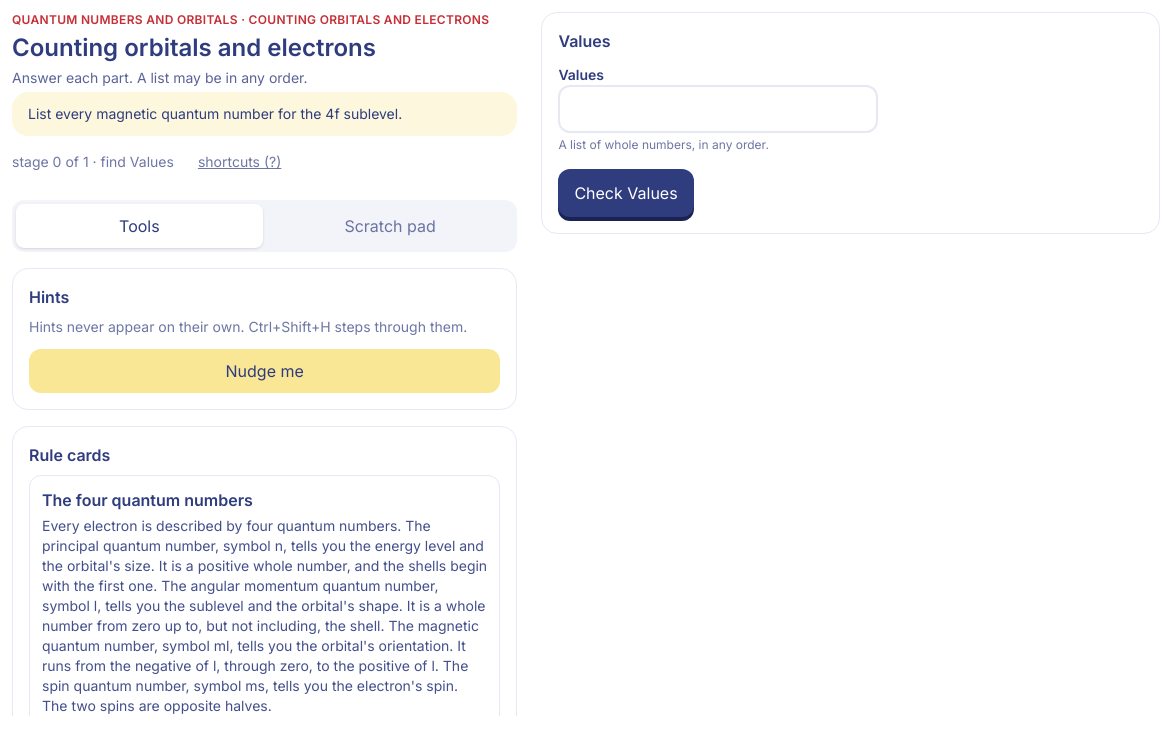
Scenario: Quantum numbers qn.count › an unreadable answer records nothing
Click the button "Check Values" at (626, 193), box [558,169,694,217]
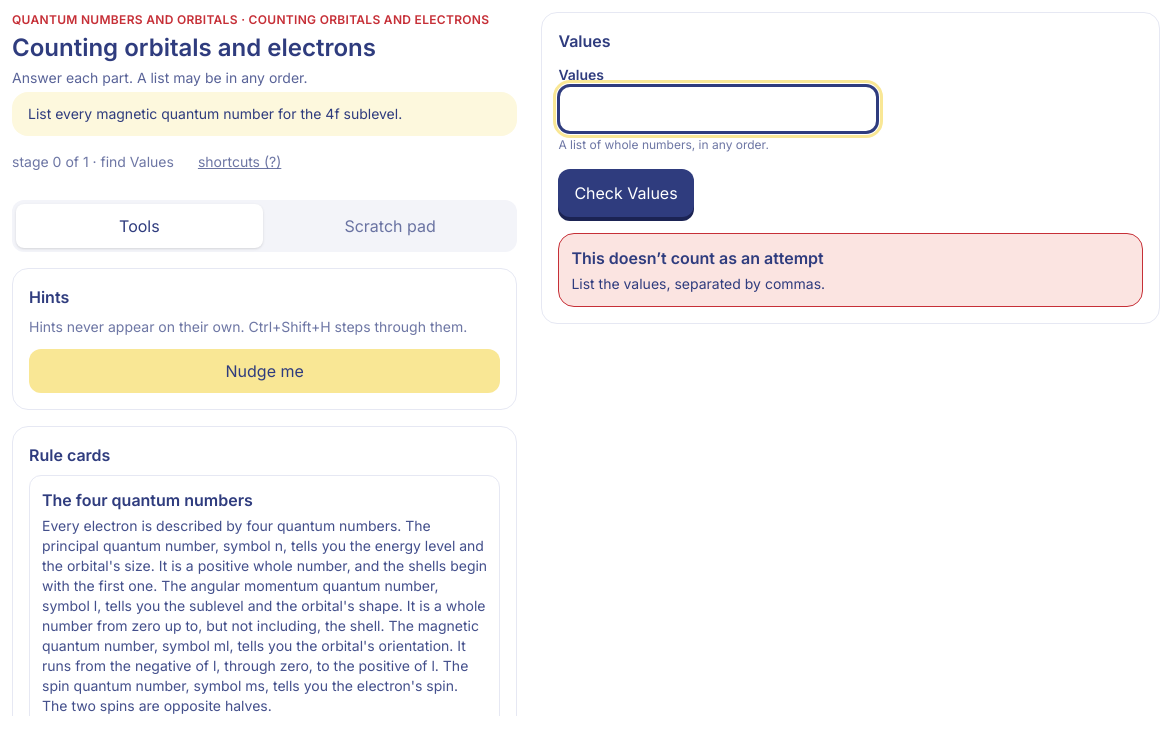
Now the message shows "This doesn’t count as an attempt", box [571,248,824,268]
Type "???" into the field labelled "Values" at (718, 109), box [558,85,878,133]
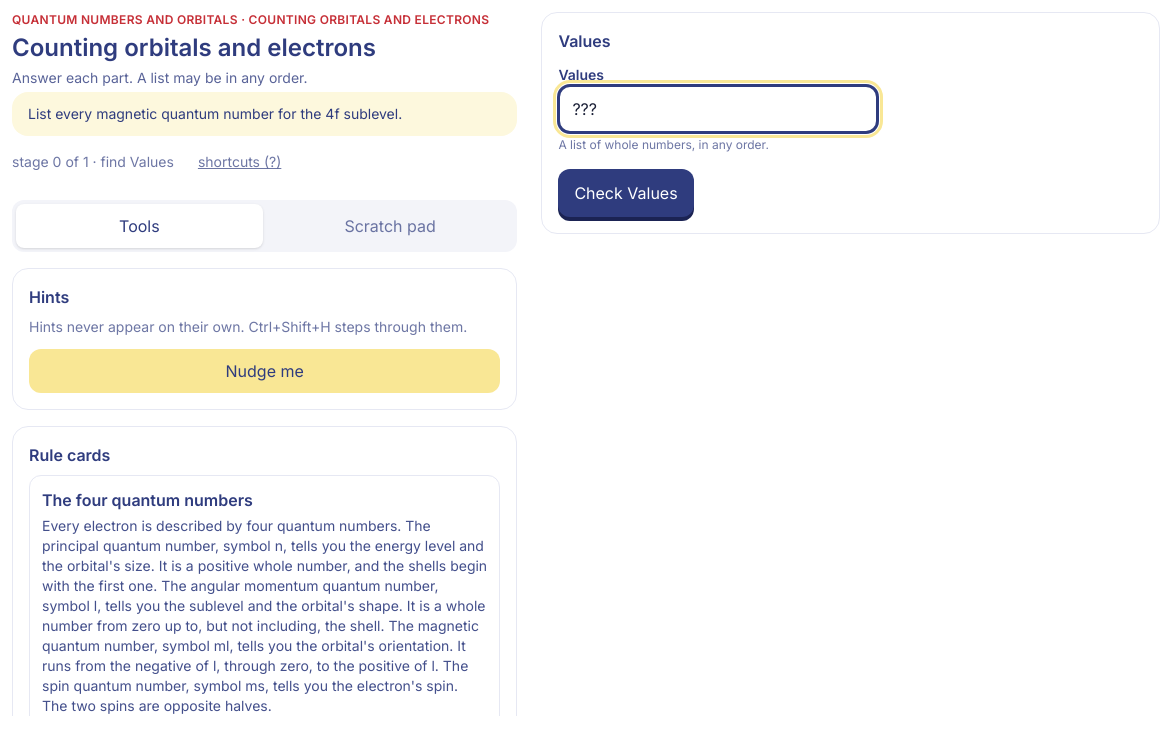
Now the message "This doesn’t count as an attempt List the values, separated by commas." is gone
Click the button "Check Values" at (626, 193), box [558,169,694,217]
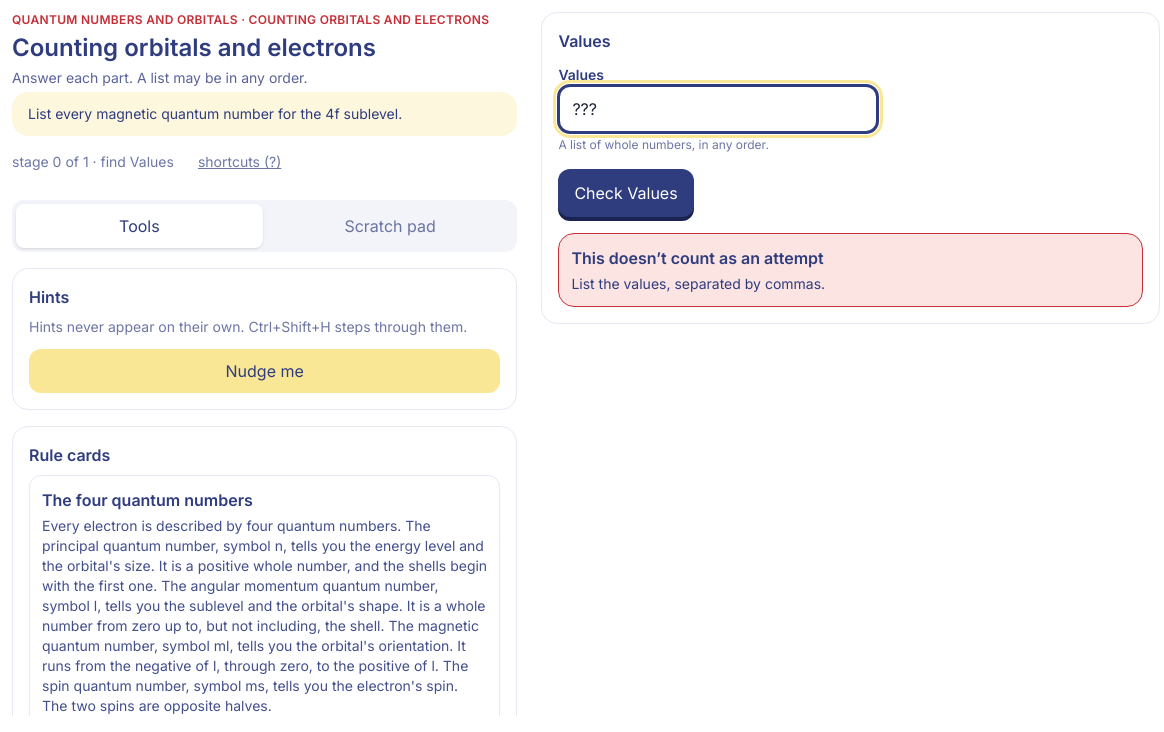
Now the message shows "This doesn’t count as an attempt", box [571,248,824,268]
